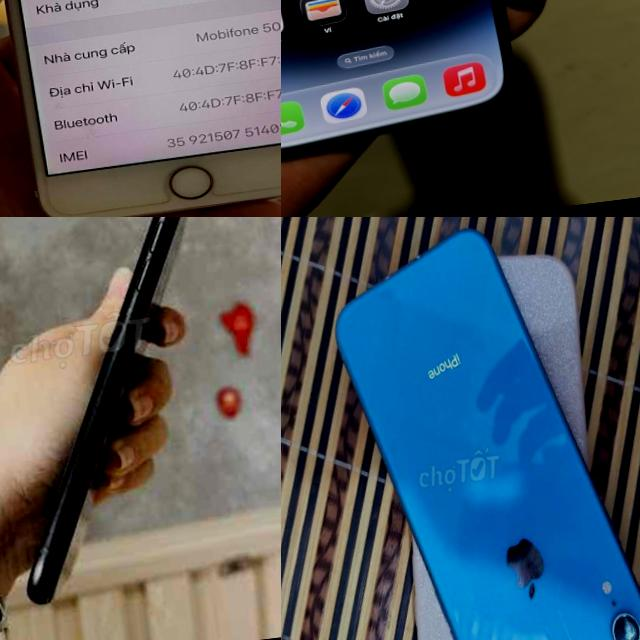gen_14: (281, 0, 531, 171)
gen_7_8: (5, 0, 281, 217)
gen_x_xs: (335, 230, 640, 640), (0, 217, 262, 623)
